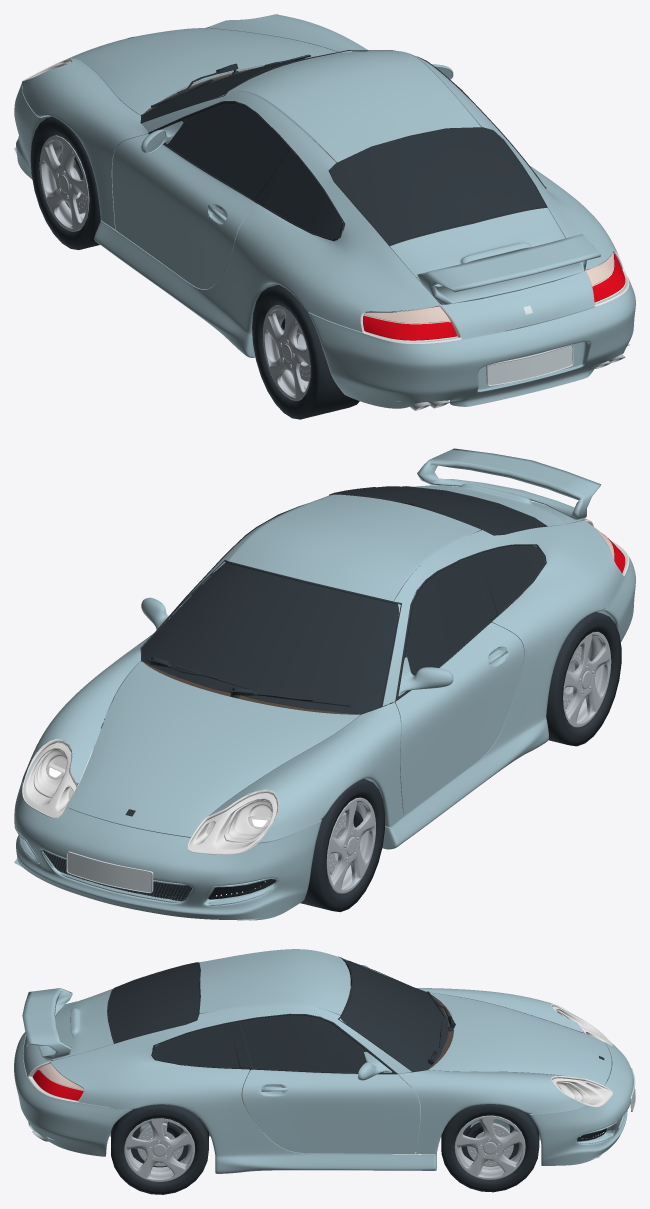
File: porsche-911.glb
3 views of the same model, one above another, from view 1: azimuth 30°, elevation 25°; view 2: azimuth 150°, elevation 25°; view 3: azimuth 270°, elevation 25° (orthographic). The views are drawn at different scales.
Visible parts, largest first — view 1: bODY, Window, Front bonnet, Driver window pane, Spoiler, Tire, BACK LIGHT, Tire2, Wheels, Wheels.001, pLATE, Rubber.001 (+5 smaller); view 2: bODY, Window, Front bonnet, Driver window pane, Spoiler, Headlight, Tire, Tire2, Wheels, Wheels.001, Rubber.001, Plate front (+7 smaller); view 3: bODY, Window, Front bonnet, Tire, Tire2, Wheels, Wheels.001, Spoiler, Rubber.001, Headlight, BACK LIGHT, Brake disc (+8 smaller).
Part boxes in pixels (left/top/right/bottom): bODY: left=14, top=14, right=635, bottom=408; Window: left=142, top=54, right=547, bottom=246; Front bonnet: left=67, top=28, right=340, bottom=115; Driver window pane: left=163, top=103, right=289, bottom=199; Spoiler: left=417, top=234, right=601, bottom=304; Tire: left=252, top=285, right=359, bottom=419; BACK LIGHT: left=363, top=252, right=625, bottom=340; Tire2: left=30, top=116, right=100, bottom=249; Wheels: left=39, top=135, right=89, bottom=231; Wheels.001: left=263, top=305, right=310, bottom=400; pLATE: left=486, top=344, right=573, bottom=385; Rubber.001: left=140, top=50, right=546, bottom=241; bODY: left=14, top=483, right=635, bottom=920; Window: left=142, top=486, right=547, bottom=713; Front bonnet: left=67, top=661, right=360, bottom=837; Driver window pane: left=398, top=556, right=489, bottom=696; Spoiler: left=417, top=448, right=601, bottom=519; Headlight: left=23, top=743, right=277, bottom=853; Tire: left=546, top=612, right=621, bottom=746; Tire2: left=101, top=719, right=384, bottom=912; Wheels: left=326, top=797, right=375, bottom=893; Wheels.001: left=563, top=631, right=611, bottom=727; Rubber.001: left=140, top=504, right=546, bottom=714; Plate front: left=66, top=851, right=153, bottom=893; bODY: left=14, top=949, right=633, bottom=1173; Window: left=107, top=959, right=448, bottom=1072; Front bonnet: left=428, top=993, right=611, bottom=1085; Tire: left=111, top=1104, right=208, bottom=1194; Tire2: left=441, top=1104, right=539, bottom=1192; Wheels: left=454, top=1115, right=525, bottom=1179; Wheels.001: left=124, top=1118, right=194, bottom=1181; Spoiler: left=22, top=988, right=72, bottom=1060; Rubber.001: left=151, top=956, right=448, bottom=1074; Headlight: left=552, top=1006, right=611, bottom=1106; BACK LIGHT: left=33, top=1063, right=83, bottom=1100; Brake disc: left=137, top=1123, right=513, bottom=1166.
Size of the model in its own units: 1.69 by 1.23 by 4.06.
